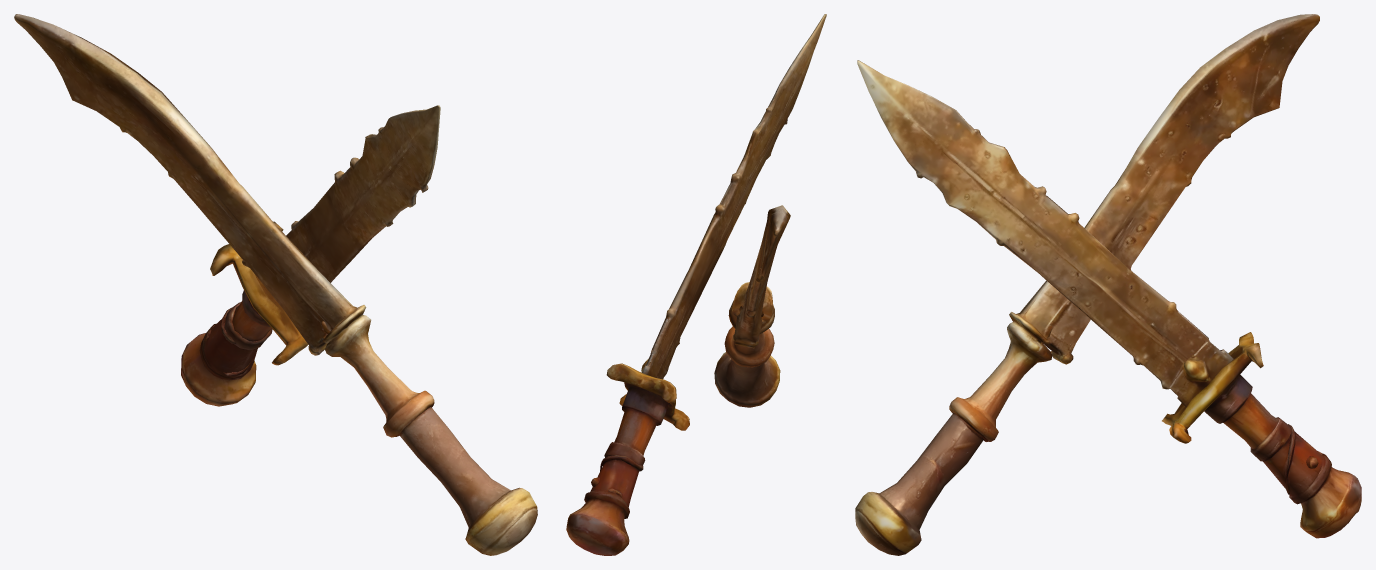
Rendered from tools-bronze.glb.
3 views of the same model, side by side, from view 1: azimuth 30°, elevation 25°; view 2: azimuth 150°, elevation 25°; view 3: azimuth 270°, elevation 25° (orthographic). The views are drawn at different scales.
Visible parts, largest first — view 1: tripo_node_4b6bb8e8-531a-45c9-b91e-a70a71fb7516; view 2: tripo_node_4b6bb8e8-531a-45c9-b91e-a70a71fb7516; view 3: tripo_node_4b6bb8e8-531a-45c9-b91e-a70a71fb7516.
Part boxes in pixels (x1,y1,x2,y2): tripo_node_4b6bb8e8-531a-45c9-b91e-a70a71fb7516: (14,14,537,555); tripo_node_4b6bb8e8-531a-45c9-b91e-a70a71fb7516: (566,14,826,555); tripo_node_4b6bb8e8-531a-45c9-b91e-a70a71fb7516: (855,14,1361,555).
Size of the model in its own units: 0.6426 by 0.998 by 0.998.
Materials: 1 (1 with a texture image).
